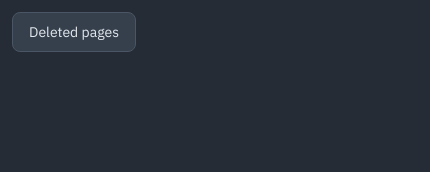
Test: DeletedPages list (BOS-2197) › shows the empty state
The image size is (430, 172).
Click the button "Deleted pages". click: {"x": 74, "y": 32}
box: [12,12,136,52]
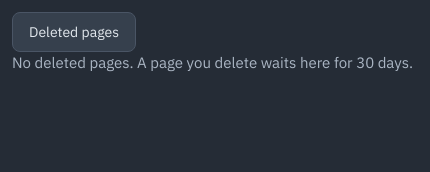
Expected: the text "No deleted pages. A page you delete waits here for 30 days." is shown, [12,53,413,72]
